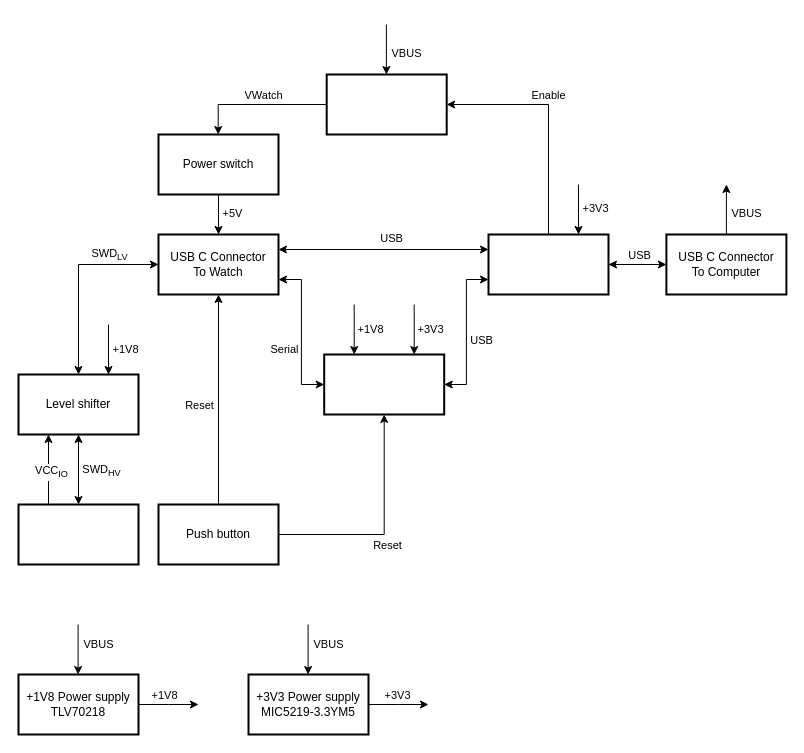
This 804x753 diagram has some shape labels left out. The shapes that lost their labels are listed below. From the top down, each one's centre as x and y in pixels, then its label:
(386,104): Overcurrent Protection MIC2026-1YM
(548,264): USB Hub USB2512
(384,384): USB/Serial FT230XQ
(78,534): SWD
